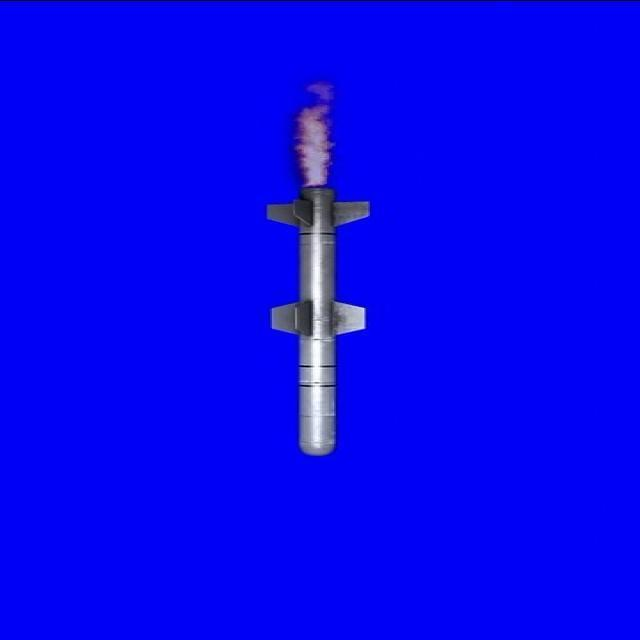missile: (262, 179, 380, 455)
